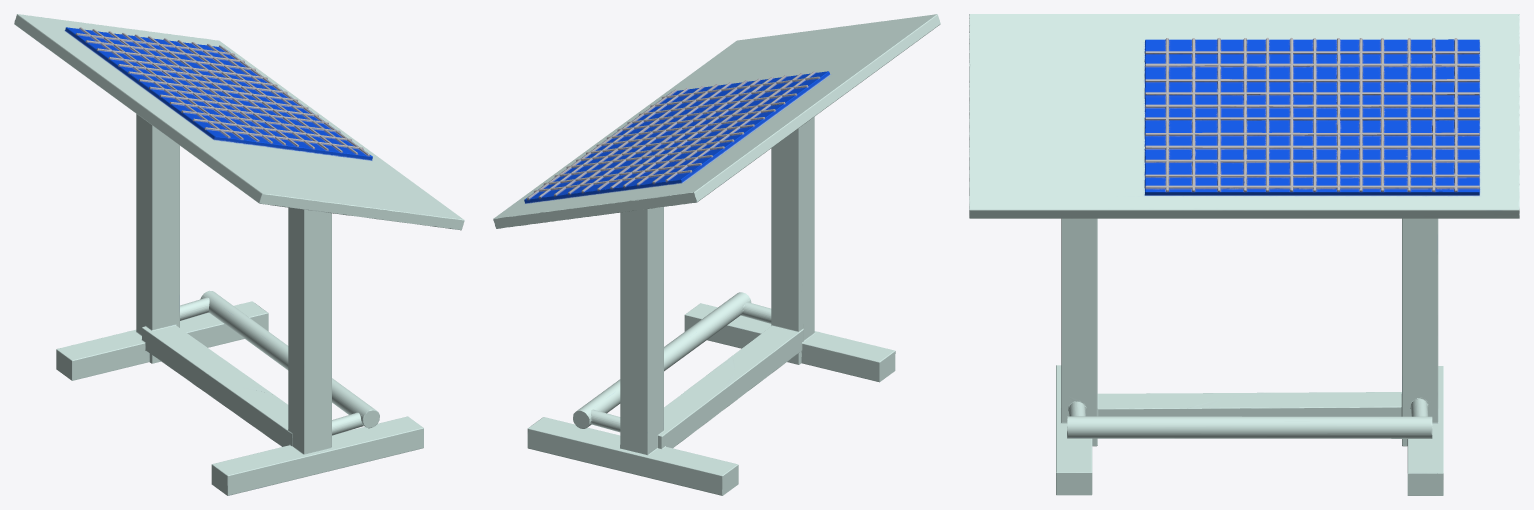
The model's file is zeichentisch_2.glb.
The picture shows the model from 3 angles, left to right: view 1: azimuth 30°, elevation 25°; view 2: azimuth 150°, elevation 25°; view 3: azimuth 270°, elevation 25°; orthographic projection. The views are drawn at different scales.
Parts seen in each view (by area): view 1: 283513_23_05_27_07_42_02_0; view 2: 283513_23_05_27_07_42_02_0; view 3: 283513_23_05_27_07_42_02_0.
Boxes of the visible parts, x1,y1,x2,y2 form: 283513_23_05_27_07_42_02_0: [14, 14, 464, 495]; 283513_23_05_27_07_42_02_0: [493, 14, 940, 495]; 283513_23_05_27_07_42_02_0: [969, 14, 1519, 495].
Size of the model in its own units: 3.82 by 5.89 by 7.9.
1 material, 1 textured.
